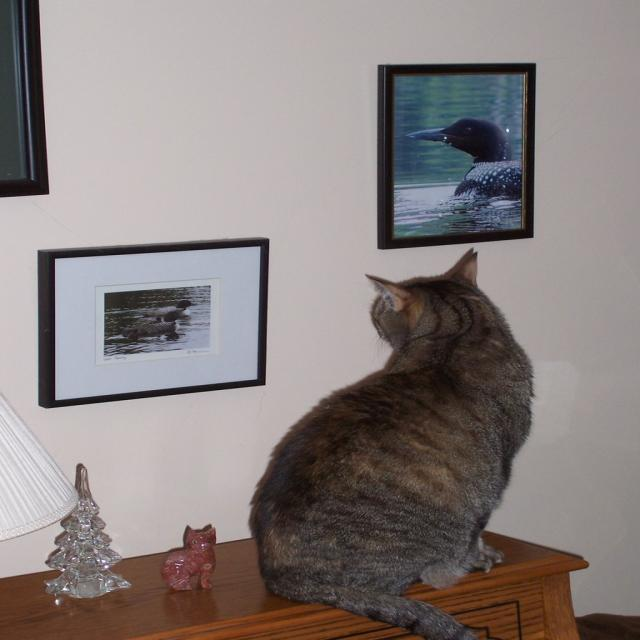Cat: (242, 249, 538, 639)
